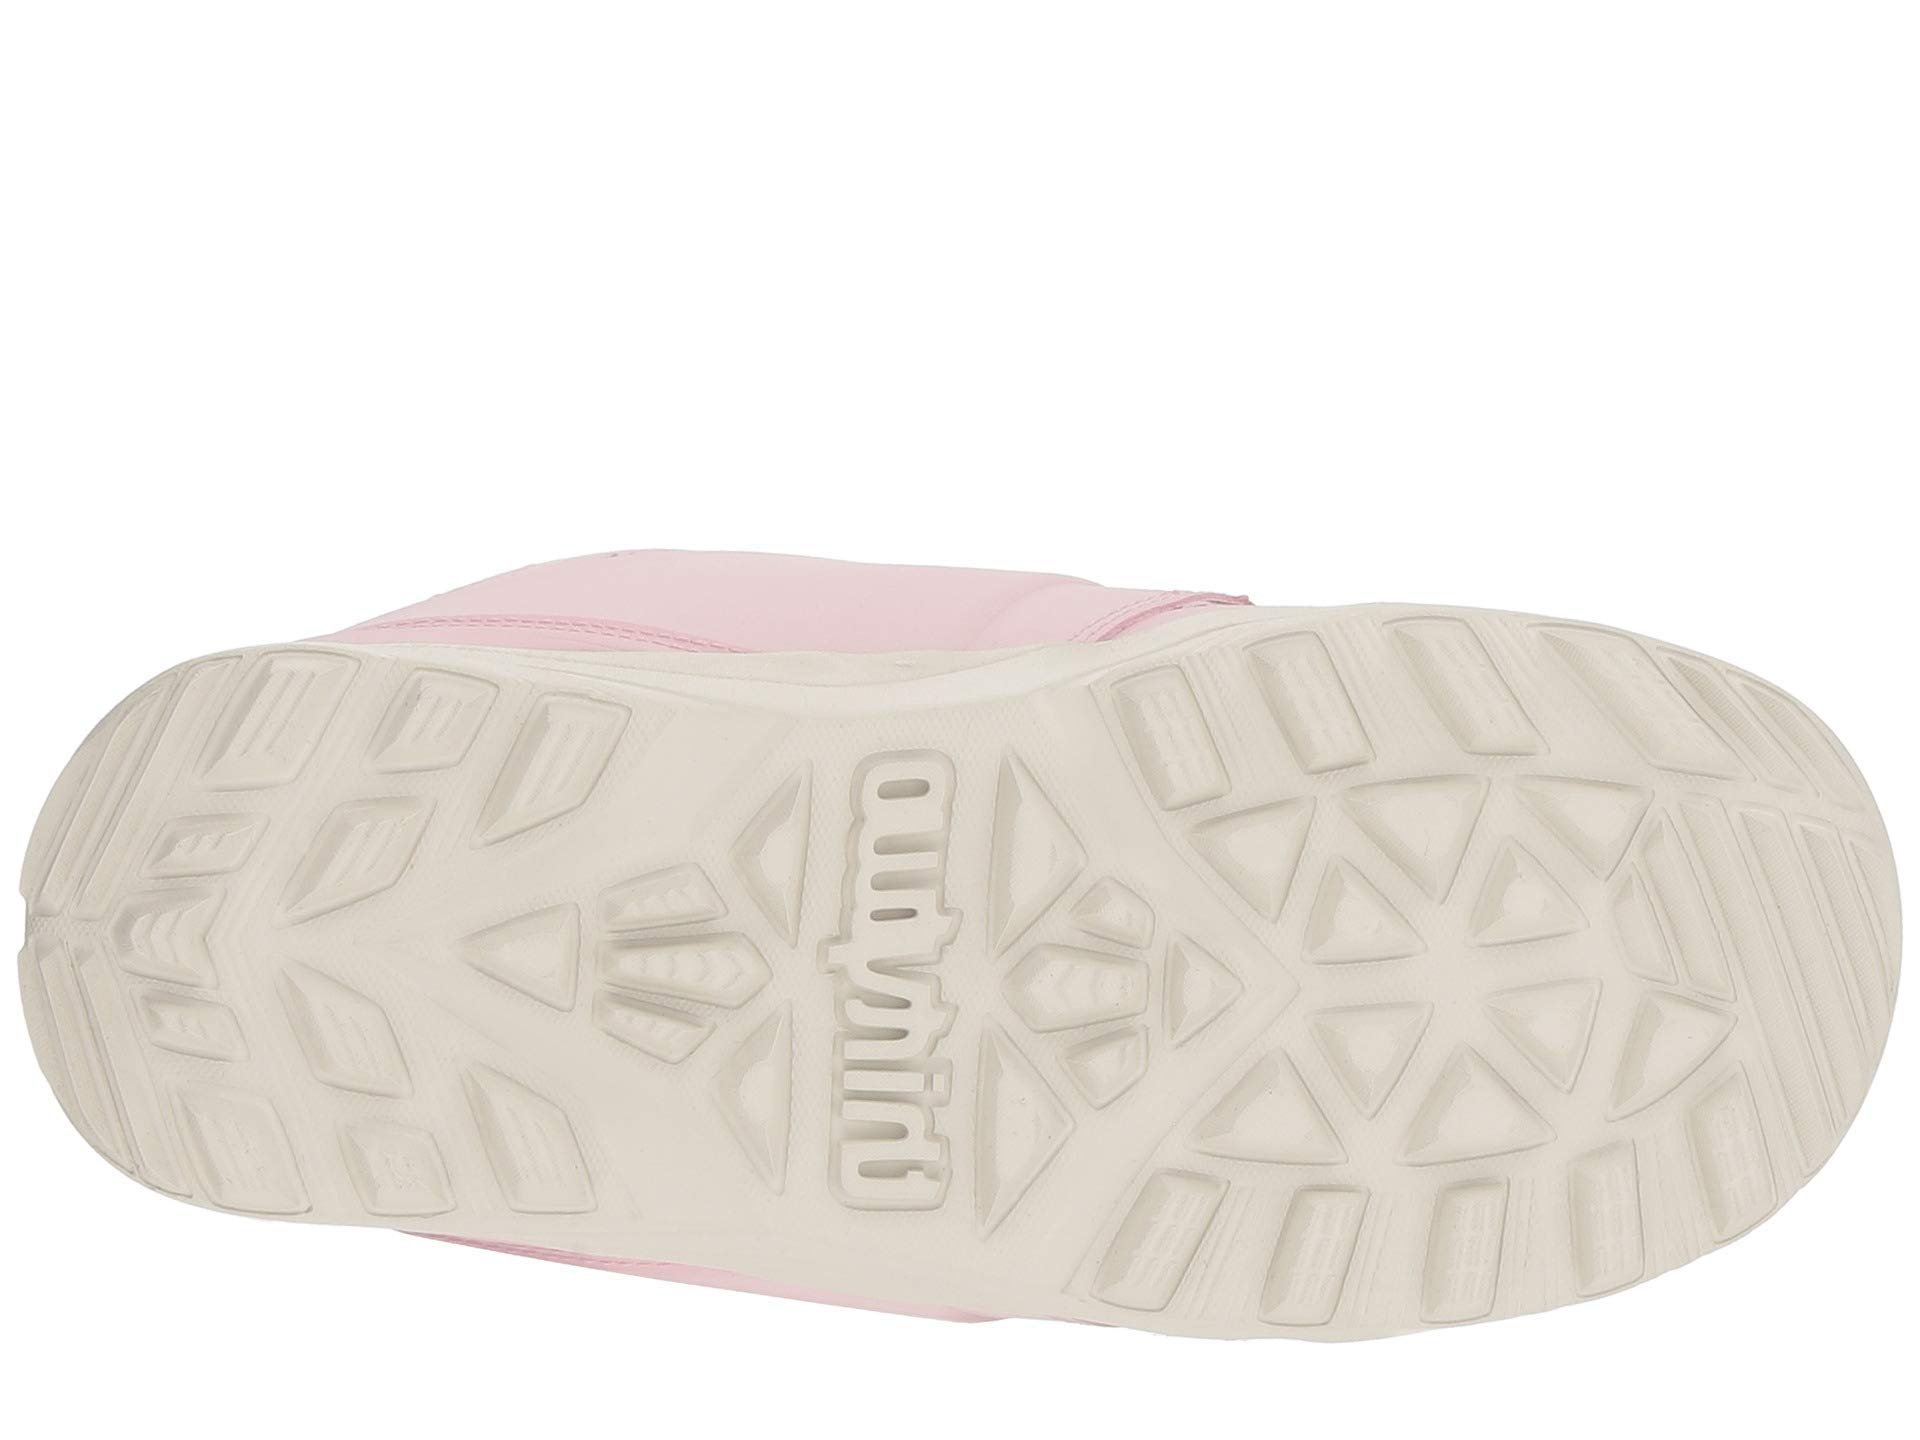chevron: (59, 771, 593, 1221)
line: (1479, 939, 1855, 1355)
quad: (59, 771, 593, 1221), (1119, 643, 1550, 1066), (1479, 939, 1855, 1355)
text: (747, 740, 1119, 1219)
triangle: (59, 771, 593, 1221), (1119, 643, 1550, 1066), (747, 740, 1119, 1219), (1479, 939, 1855, 1355)
